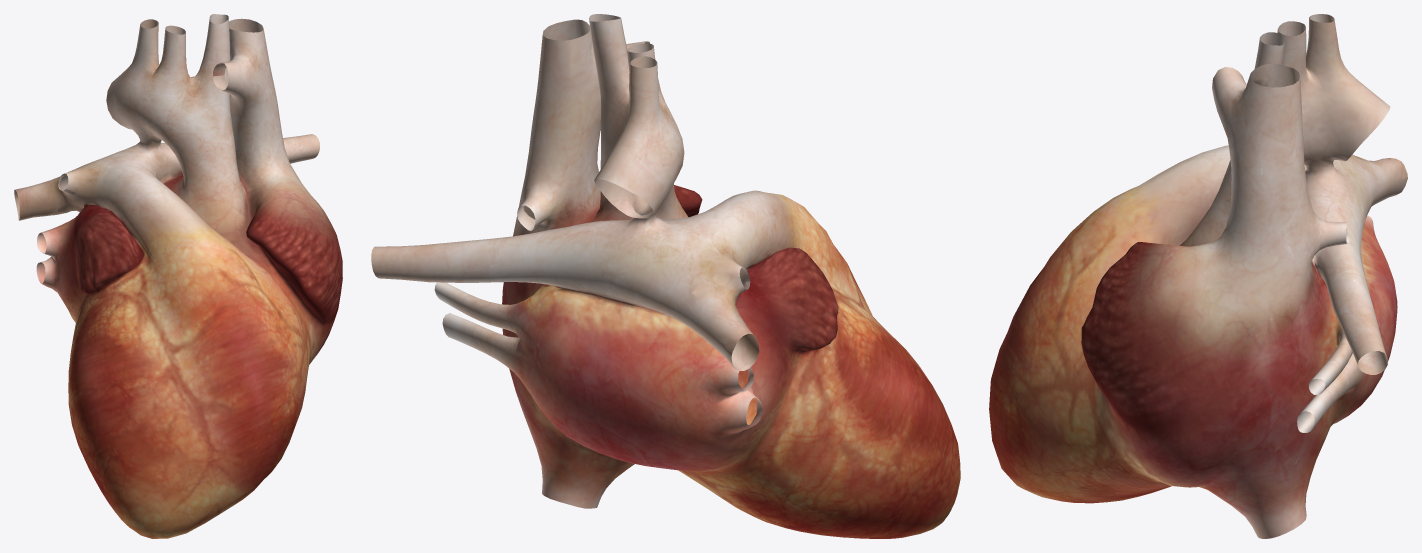
The model's file is corazon.fbx.
The picture shows the model from 3 angles, left to right: view 1: azimuth 30°, elevation 25°; view 2: azimuth 150°, elevation 25°; view 3: azimuth 270°, elevation 25°; orthographic projection. The views are drawn at different scales.
Parts seen in each view (by area): view 1: Corazon; view 2: Corazon; view 3: Corazon.
Part boxes in pixels (x1=…): Corazon: x1=14, y1=14, x2=342, y2=538; Corazon: x1=371, y1=14, x2=960, y2=538; Corazon: x1=989, y1=14, x2=1407, y2=538.
Bounding box in the file's own units: 135 × 166 × 118.
